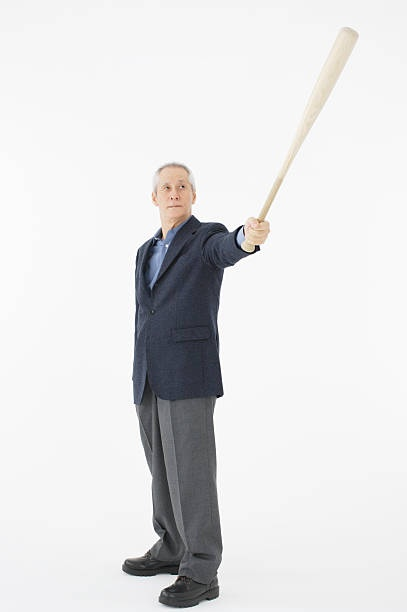bita: (256, 25, 361, 219)
